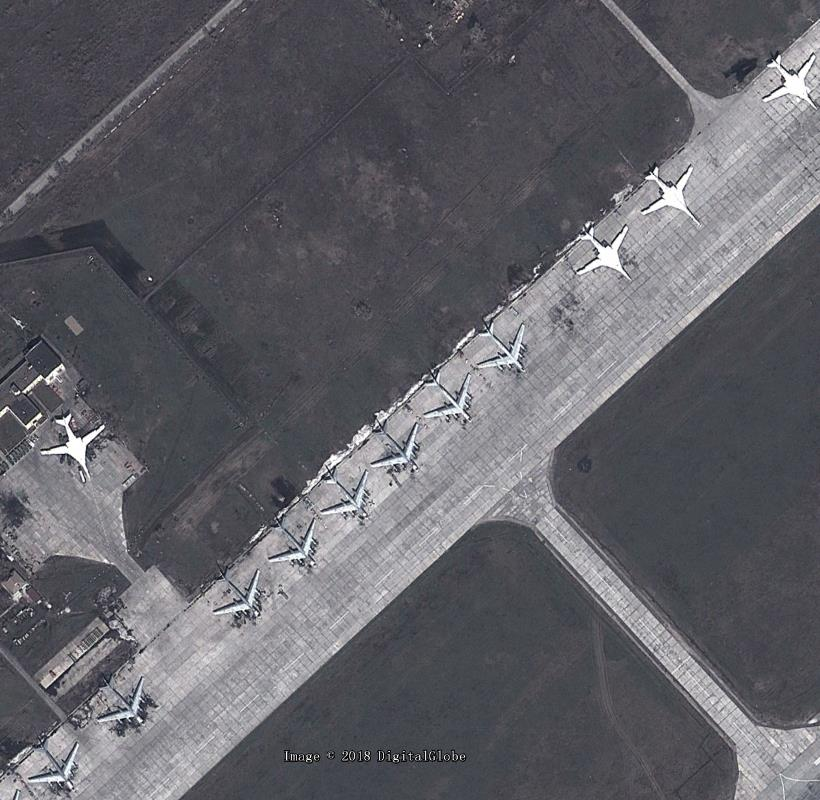A17: (210, 566, 264, 626), (368, 420, 422, 478), (319, 468, 373, 526), (266, 516, 320, 574), (27, 738, 80, 794), (95, 674, 147, 729), (474, 321, 527, 374), (422, 373, 474, 425)
A6: (39, 411, 105, 482), (640, 166, 701, 228), (574, 223, 633, 283), (762, 52, 819, 111)
